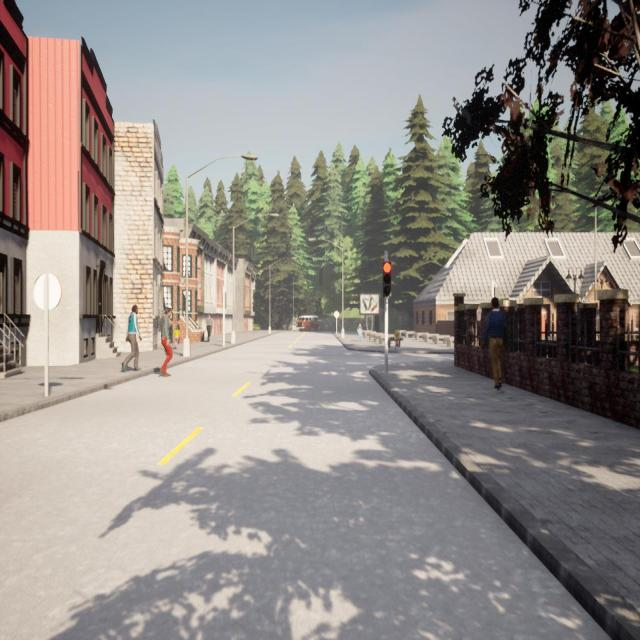Pedestrian: (484, 294, 510, 393), (121, 305, 141, 371), (160, 308, 173, 377), (206, 312, 213, 342), (173, 326, 180, 350), (393, 327, 401, 347), (357, 323, 363, 341)
Traffic_Signs: (31, 274, 62, 312), (334, 311, 339, 318)
Vehicle: (297, 315, 319, 331)
traffic_light: (382, 261, 391, 298)
